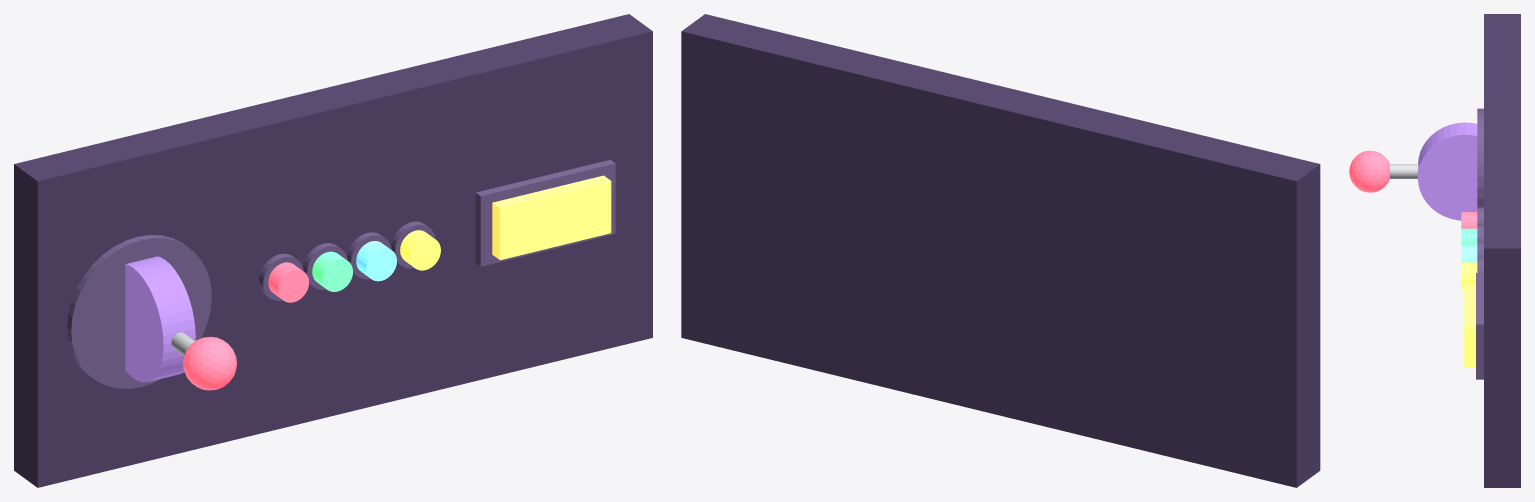
File: arcade_control_panel.glb
3 renders of one model, left to right at view 1: azimuth 30°, elevation 25°; view 2: azimuth 150°, elevation 25°; view 3: azimuth 270°, elevation 25°, orthographic. The views are drawn at different scales.
Visible parts, largest first — view 1: Deck, WheelHousing, ButtonCoin, VerticalWheel, CoinPlate, LeverKnob, ButtonPrev, ButtonNext, ButtonEnroll, ButtonAudio, ButtonPrev_Bezel; view 2: Deck; view 3: Deck, VerticalWheel, LeverKnob, ButtonCoin, CoinPlate, WheelHousing, LeverShaft, ButtonEnroll, ButtonNext, ButtonAudio, ButtonPrev.
Part boxes in pixels (<box>): Deck: <box>14,14,652,487</box>; WheelHousing: <box>67,235,211,388</box>; ButtonCoin: <box>492,175,611,260</box>; VerticalWheel: <box>125,256,195,382</box>; CoinPlate: <box>475,159,615,266</box>; LeverKnob: <box>183,336,236,390</box>; ButtonPrev: <box>268,262,308,302</box>; ButtonNext: <box>312,251,352,291</box>; ButtonEnroll: <box>400,230,440,270</box>; ButtonAudio: <box>356,241,396,281</box>; ButtonPrev_Bezel: <box>259,253,303,300</box>; Deck: <box>681,14,1320,487</box>; Deck: <box>1484,14,1520,487</box>; VerticalWheel: <box>1417,122,1477,220</box>; LeverKnob: <box>1349,150,1389,192</box>; ButtonCoin: <box>1464,284,1475,367</box>; CoinPlate: <box>1476,273,1483,379</box>; WheelHousing: <box>1477,108,1483,207</box>; LeverShaft: <box>1389,164,1418,178</box>; ButtonEnroll: <box>1461,262,1477,289</box>; ButtonNext: <box>1461,228,1477,245</box>; ButtonAudio: <box>1461,245,1477,262</box>; ButtonPrev: <box>1461,212,1477,228</box>.
Bounding box in the file's own units: 4.2 × 2 × 1.3.
